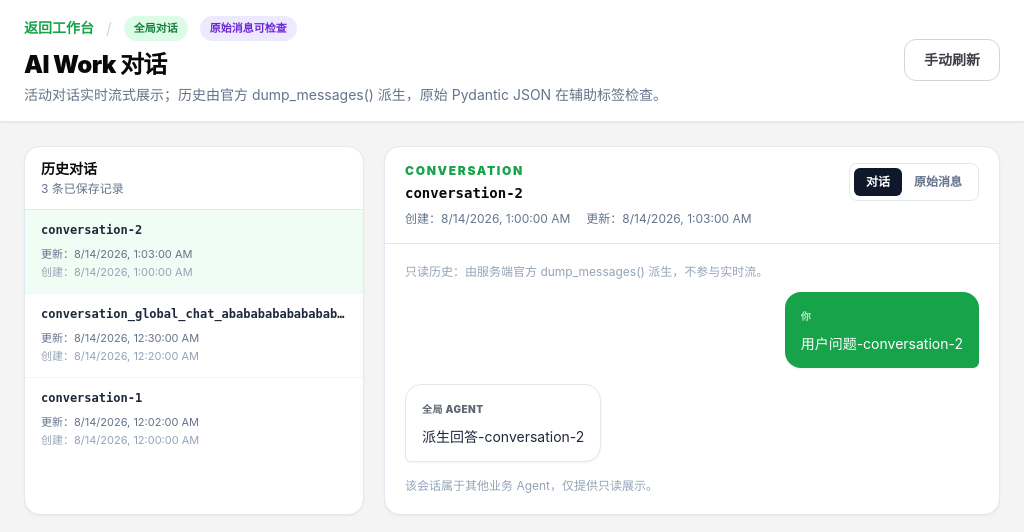
Scenario: AiWorkView 对话与历史 › 规范 detail 失败只影响原始消息标签，气泡标签正常
The image size is (1024, 532).
Expected: the panel with test id "ai-work-chat-view" shows "派生回答-conversation-2", [422,428,584,444]
Step 1. Click the tab with test id "ai-work-view-raw-tab" → (938, 182), box [902,168,974,196]
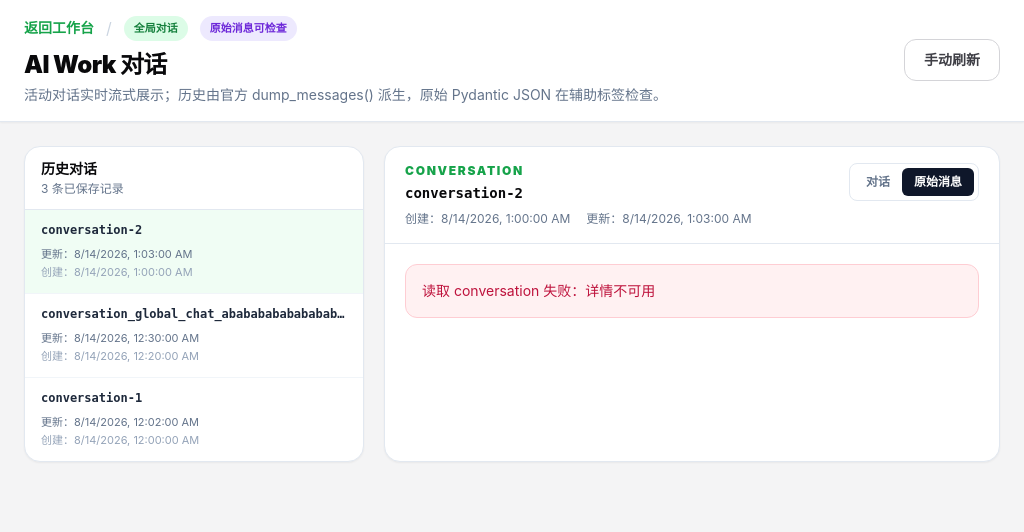
Expected: the message with test id "ai-work-detail-error" reads "读取 conversation 失败：详情不可用", [422,282,655,298]
